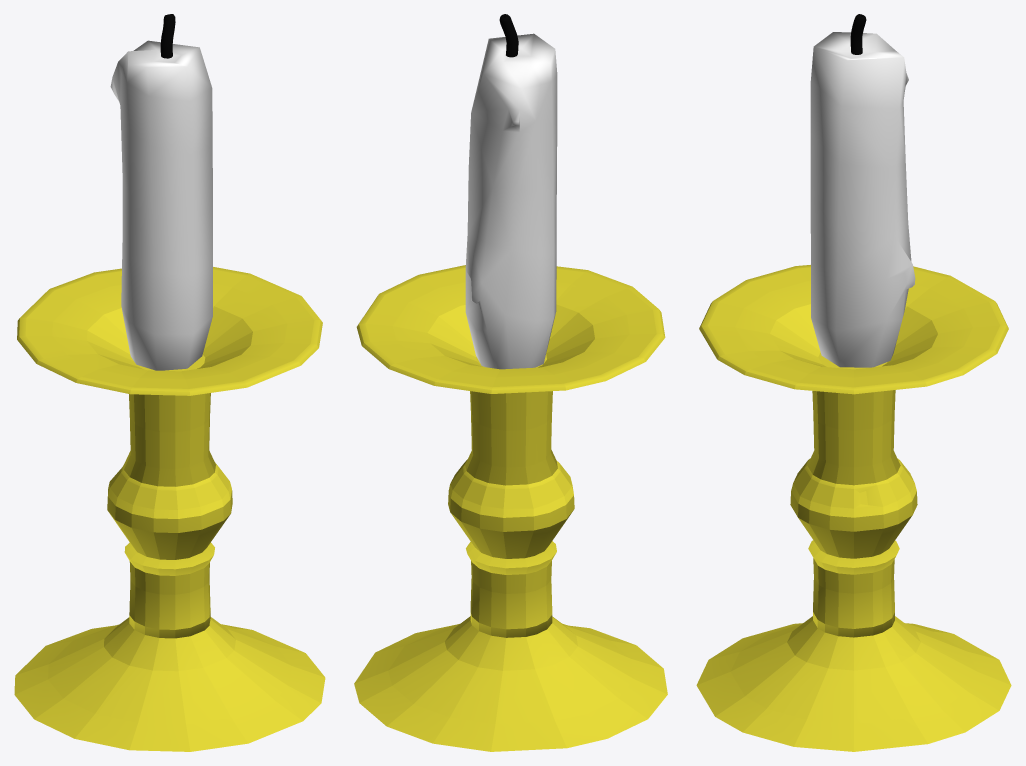
The model's file is candle final.fbx.
3 renders of one model, left to right at view 1: azimuth 30°, elevation 25°; view 2: azimuth 150°, elevation 25°; view 3: azimuth 270°, elevation 25°, orthographic.
Parts seen in each view (by area): view 1: base, candle, wick; view 2: base, candle, wick; view 3: base, candle.
Part boxes in pixels (<box>): base: <box>14,267,325,751</box>; candle: <box>110,40,212,370</box>; wick: <box>160,14,175,58</box>; base: <box>354,265,667,751</box>; candle: <box>465,33,557,369</box>; wick: <box>499,14,518,57</box>; base: <box>696,265,1011,751</box>; candle: <box>810,32,915,367</box>.
Size of the model in its own units: 1199 by 2823 by 1199.
